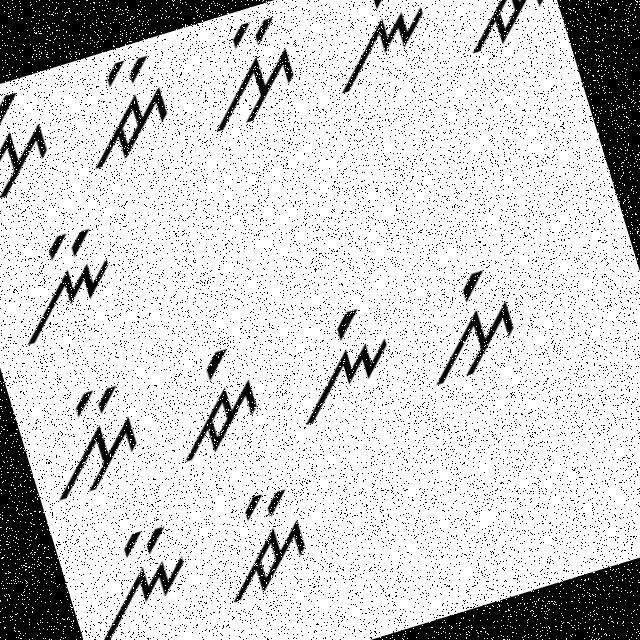ja: (439, 0, 562, 74)
jan: (188, 472, 328, 612), (58, 48, 184, 176)
jang: (150, 336, 276, 468)
nyan: (0, 215, 132, 357), (66, 512, 208, 639)
nyang: (267, 288, 406, 431), (406, 252, 534, 392), (310, 0, 451, 101)
san: (18, 364, 164, 512), (190, 12, 309, 140)
sang: (0, 85, 63, 216)
